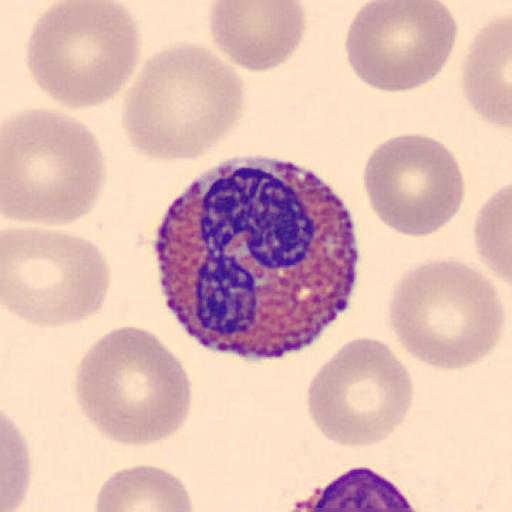RBC: (122, 40, 246, 164), (72, 323, 194, 449), (386, 256, 506, 372), (24, 0, 142, 110), (2, 106, 108, 227), (304, 335, 414, 449), (2, 222, 112, 328), (360, 131, 466, 239), (344, 0, 458, 95), (208, 0, 307, 72), (461, 10, 512, 131), (92, 464, 196, 512), (472, 180, 512, 285), (1, 410, 32, 512)
WBC: (152, 156, 364, 360), (280, 465, 428, 512)
